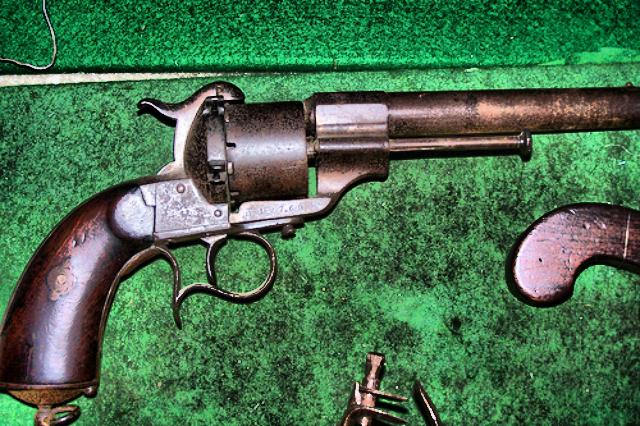pistol: (0, 77, 638, 398)
